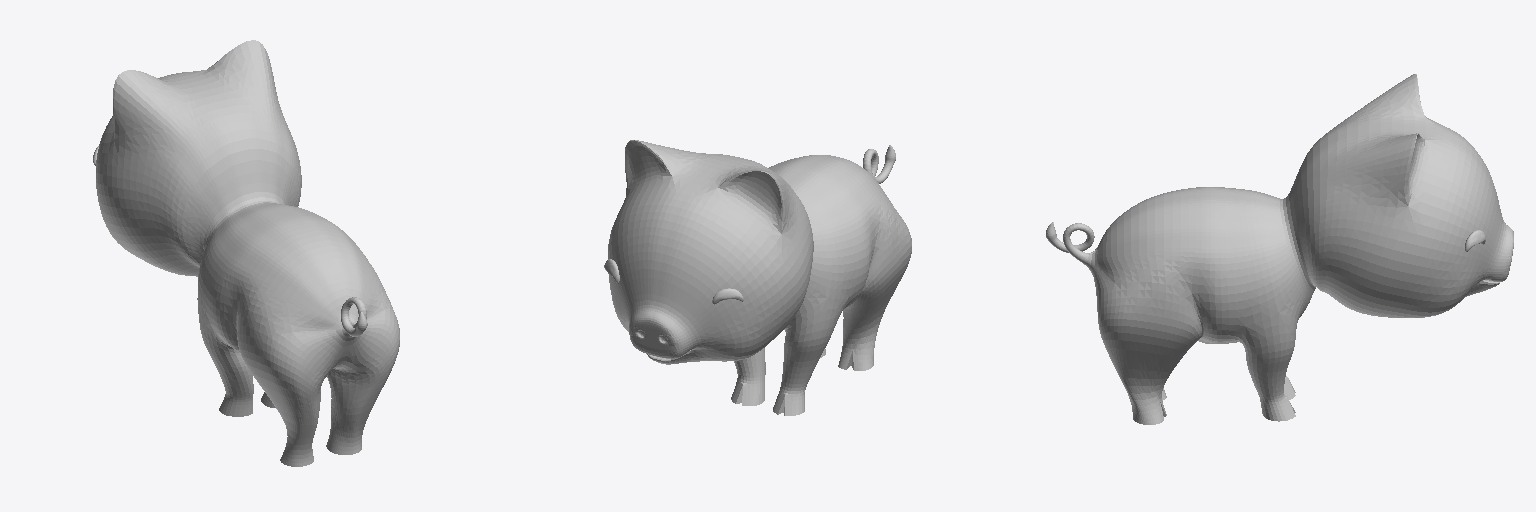
Rendered from CartoonPig3-bl.obj.
3 renders of one model, left to right at view 1: azimuth 30°, elevation 25°; view 2: azimuth 150°, elevation 25°; view 3: azimuth 270°, elevation 25°, orthographic.
Parts seen in each view (by area): view 1: Pig.002; view 2: Pig.002; view 3: Pig.002.
Boxes of the visible parts, x1,y1,x2,y2 form: Pig.002: [93, 40, 399, 466]; Pig.002: [604, 140, 911, 415]; Pig.002: [1046, 74, 1513, 424].
Bounding box in the file's own units: 2.09 × 3.41 × 4.82.